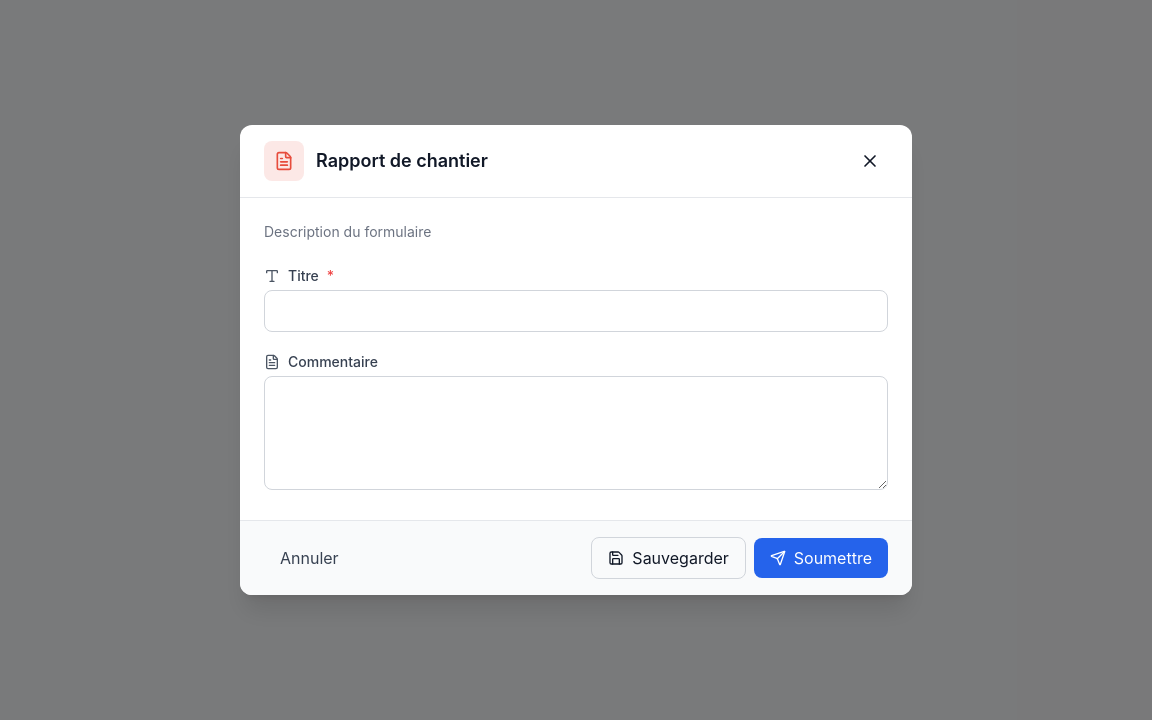
FormulaireModal › Soumission › valide les champs obligatoires avant soumission
Note: Ne pas remplir le champ obligatoire
Click the button "Soumettre".
click(821, 558)  # box [754,538,888,578]
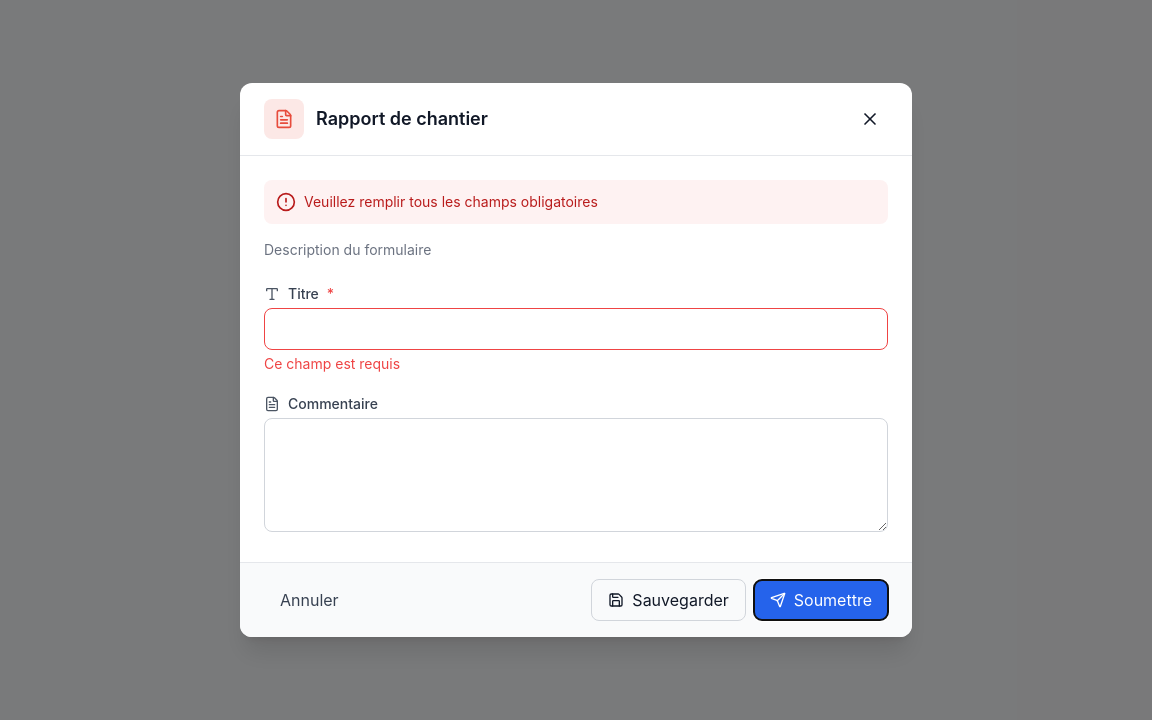
Expected: the text "Veuillez remplir tous les champs obligatoires" is shown, [264,180,888,224]
